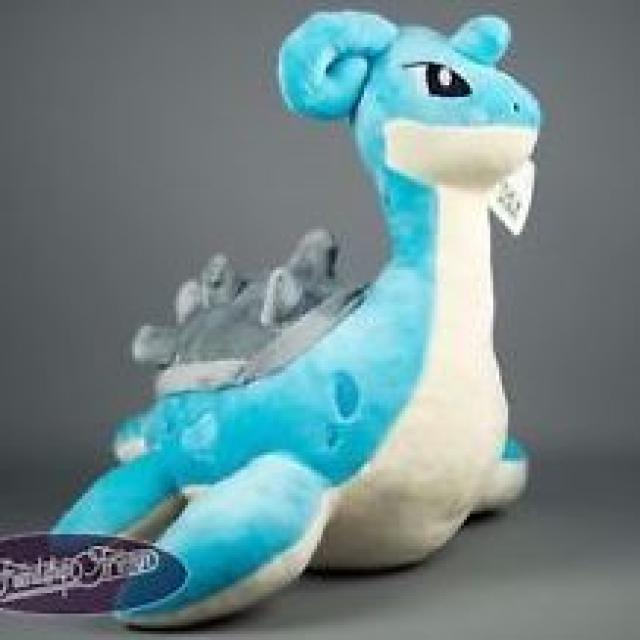Lapras: (104, 1, 544, 620)
